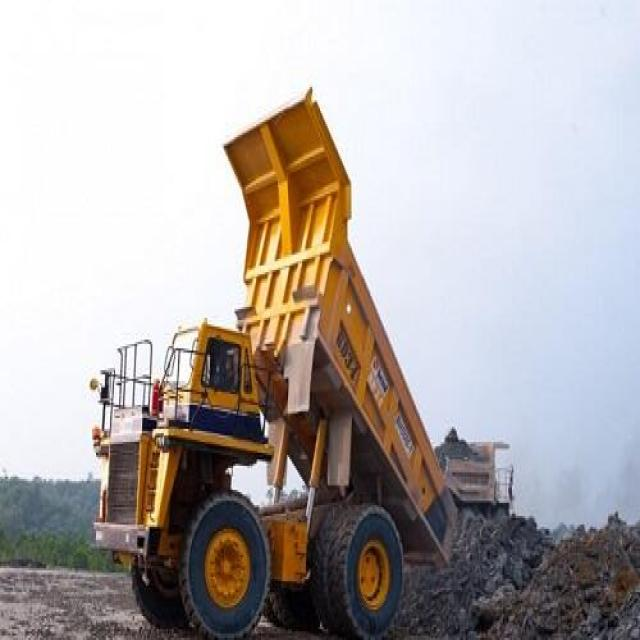dump_truck: (74, 61, 463, 627)
